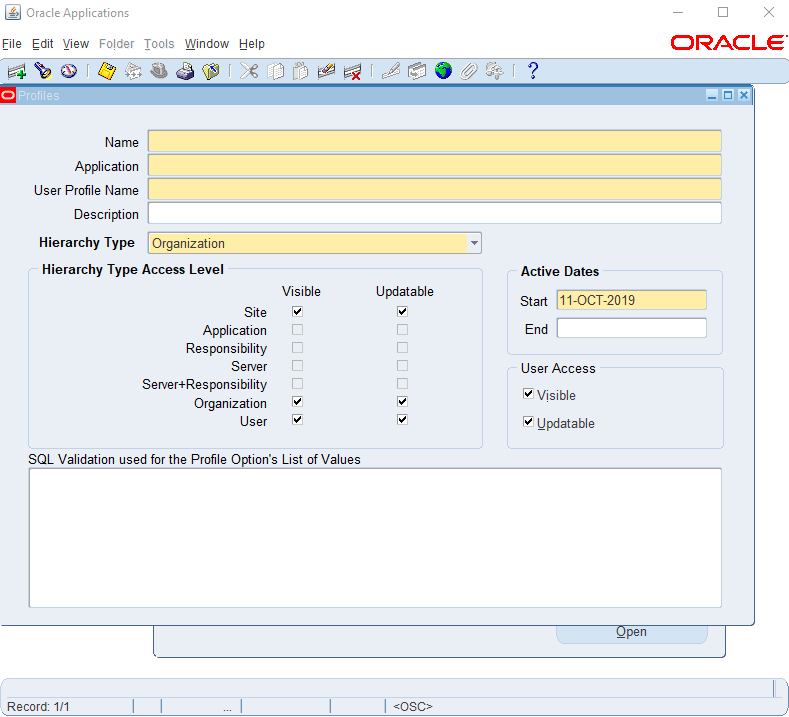CHECKBOX_CHECKED: (292, 306, 303, 317), (397, 306, 408, 317), (523, 388, 534, 399), (292, 396, 303, 407), (397, 396, 408, 407), (292, 414, 303, 425), (397, 414, 408, 425), (523, 416, 534, 427)
CHECKBOX_UNCHECKED: (292, 324, 303, 335), (397, 324, 408, 335), (292, 342, 303, 353), (397, 342, 408, 353), (292, 360, 303, 371), (397, 360, 408, 371), (292, 378, 303, 389), (397, 378, 408, 389)
DROPDOWN: (148, 231, 482, 254)
DROPDOWN_HANDLE: (468, 231, 482, 256)
IMAGEBUTTON: (5, 60, 28, 82), (31, 60, 54, 82), (431, 60, 454, 82), (58, 60, 81, 81), (95, 60, 118, 81), (121, 60, 144, 81), (147, 60, 170, 81), (174, 60, 197, 81), (200, 60, 223, 81), (238, 60, 261, 81), (264, 60, 287, 81), (290, 60, 313, 81), (316, 60, 339, 81), (342, 60, 365, 81), (380, 60, 403, 81), (406, 60, 429, 81), (458, 60, 481, 81), (484, 60, 507, 81), (522, 60, 545, 81), (716, 5, 730, 19), (762, 5, 776, 19), (671, 5, 685, 19), (738, 89, 751, 101), (706, 89, 718, 101), (722, 89, 734, 101)
TEXTBOX: (148, 201, 723, 224), (148, 129, 722, 152), (148, 153, 722, 176), (148, 177, 722, 200), (557, 289, 707, 310), (557, 318, 707, 338)
